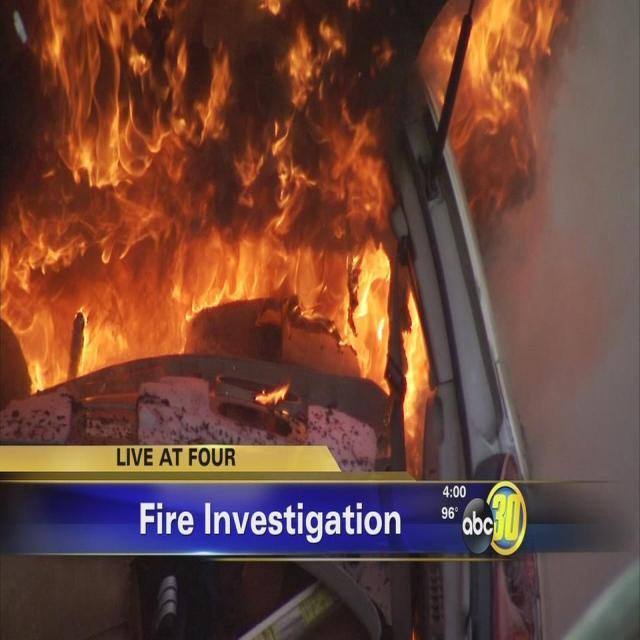Fire: (0, 0, 590, 431)
